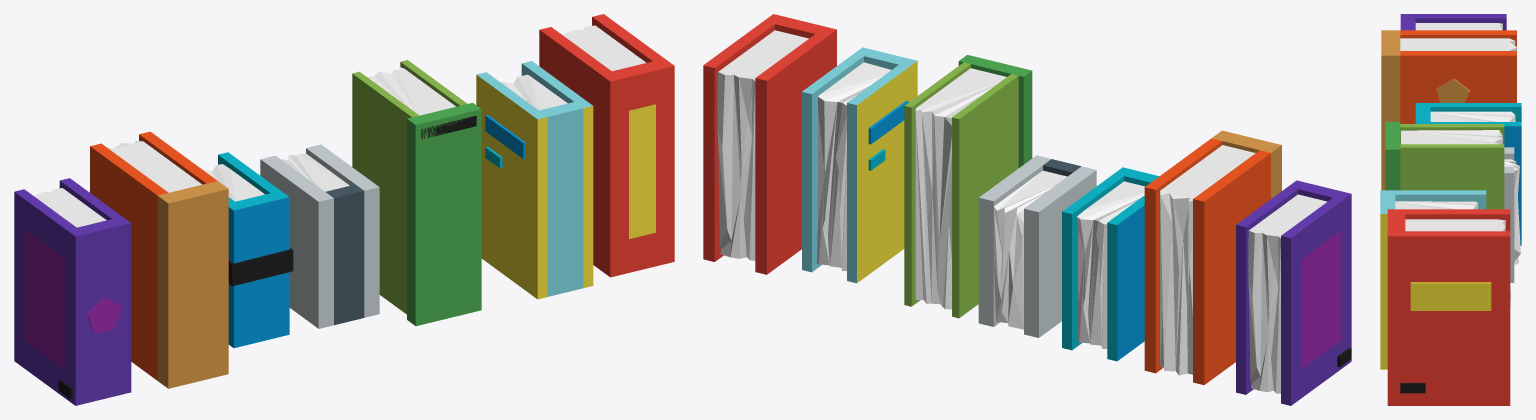
The model's file is Books.glb.
3 views of the same model, side by side, from view 1: azimuth 30°, elevation 25°; view 2: azimuth 150°, elevation 25°; view 3: azimuth 270°, elevation 25° (orthographic). The views are drawn at different scales.
Visible parts, largest first — view 1: group812301696, group1620085808, group1585151504, group1055978096, group1124048543, group280555312, group1016897200, group145011807, group2087697644, group2100560792, group74491139, group1382199973 (+14 smaller); view 2: group812301696, group1620085808, group1124048543, group1016897200, group280555312, group199531378, group1959620296, group2105512078, group145011807, group1892049949, group2097854946, group1658398390 (+8 smaller); view 3: group812301696, group1829735666, group1926063501, group1234095791, group1055978096, group1620085808, group199531378, group1959620296, group407035368, group1124048543, group1585151504, group1016897200 (+12 smaller).
Boxes of the visible parts, box(x1,y1,x2,y2) form: group812301696: box(539, 14, 674, 277); group1620085808: box(14, 178, 131, 405); group1585151504: box(407, 102, 481, 326); group1055978096: box(157, 181, 228, 388); group1124048543: box(476, 72, 547, 299); group280555312: box(352, 71, 419, 314); group1016897200: box(90, 143, 168, 380); group145011807: box(260, 155, 333, 328); group2087697644: box(537, 102, 583, 296); group2100560792: box(235, 193, 279, 345); group74491139: box(325, 184, 364, 325); group1382199973: box(306, 144, 379, 317); group812301696: box(703, 14, 836, 274); group1620085808: box(1236, 180, 1351, 405); group1124048543: box(847, 59, 917, 283); group1016897200: box(1193, 150, 1270, 384); group280555312: box(952, 74, 1018, 318); group199531378: box(915, 68, 1006, 309); group1959620296: box(1160, 145, 1255, 375); group2105512078: box(816, 62, 891, 270); group145011807: box(1024, 166, 1096, 337); group1892049949: box(1107, 195, 1144, 361); group2097854946: box(1076, 181, 1145, 348); group1658398390: box(993, 170, 1067, 329); group812301696: box(1387, 209, 1510, 405); group1829735666: box(1400, 51, 1516, 123); group1926063501: box(1400, 144, 1504, 209); group1234095791: box(1410, 282, 1491, 310); group1055978096: box(1381, 30, 1400, 190); group1620085808: box(1400, 14, 1506, 30); group199531378: box(1401, 130, 1502, 144); group1959620296: box(1400, 38, 1517, 50); group407035368: box(1380, 209, 1387, 369); group1124048543: box(1380, 190, 1486, 209); group1585151504: box(1385, 122, 1400, 190); group1016897200: box(1400, 30, 1516, 46).
Bounding box in the file's own units: 1.18 × 0.39 × 0.28.
